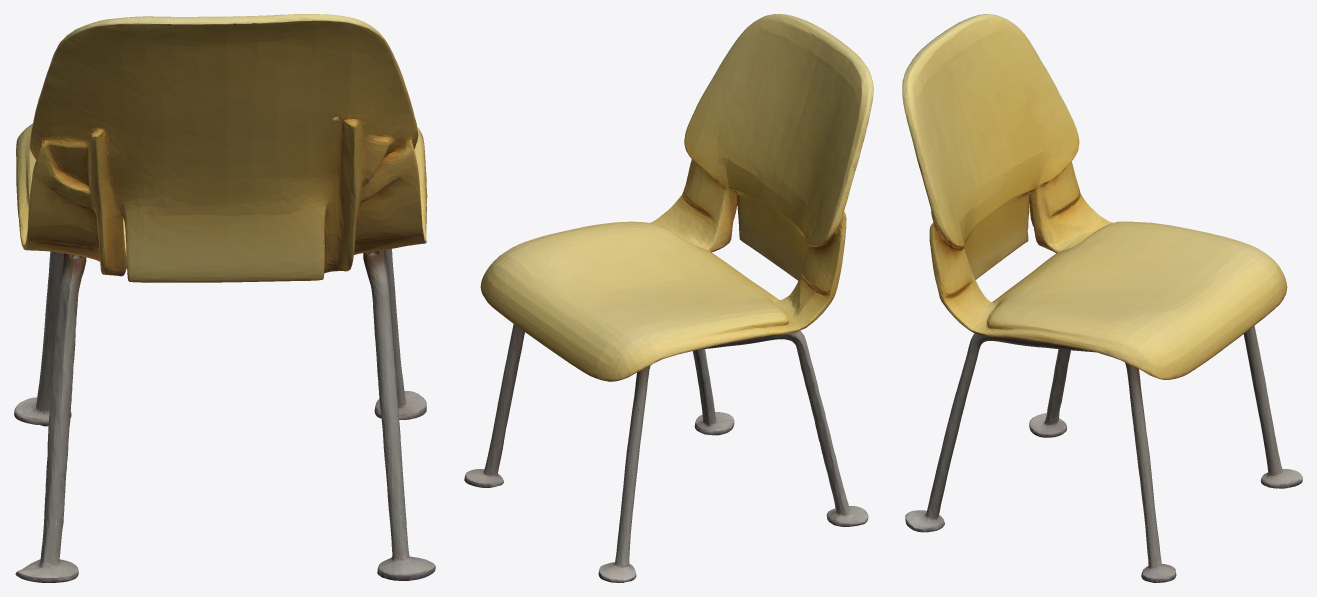
Rendered from light-colored_wooden_chair_against_back_wall_(left)_000.glb.
3 views of the same model, side by side, from view 1: azimuth 30°, elevation 25°; view 2: azimuth 150°, elevation 25°; view 3: azimuth 270°, elevation 25° (orthographic). The views are drawn at different scales.
Visible parts, largest first — view 1: phase2_final_light-colored_wooden_chair_against_back_wall_(l; view 2: phase2_final_light-colored_wooden_chair_against_back_wall_(l; view 3: phase2_final_light-colored_wooden_chair_against_back_wall_(l.
Boxes of the visible parts, box(x1,y1,x2,y2) form: phase2_final_light-colored_wooden_chair_against_back_wall_(l: box(14, 14, 435, 582); phase2_final_light-colored_wooden_chair_against_back_wall_(l: box(464, 14, 873, 582); phase2_final_light-colored_wooden_chair_against_back_wall_(l: box(902, 14, 1302, 582).
Bounding box in the file's own units: 0.3439 × 0.404 × 0.3447.
Materials: 1 (1 with a texture image).
